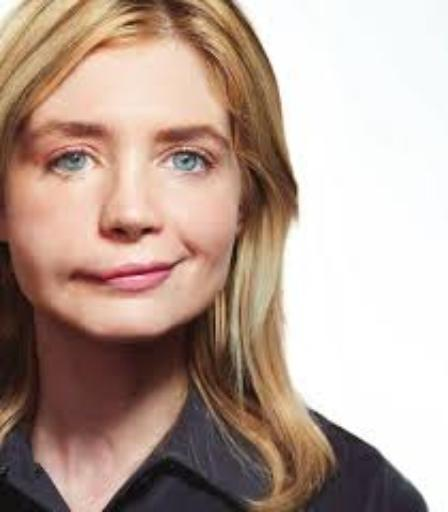left_eye: (157, 150, 217, 179)
left_lip_corner: (174, 254, 194, 274)
right_eye: (44, 150, 107, 179)
right_lip_corner: (58, 267, 90, 290)
